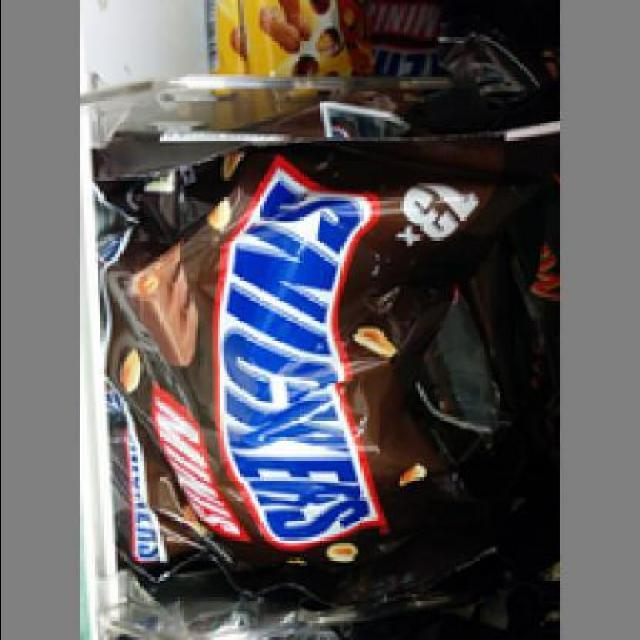Chocolate bar: (89, 117, 511, 609)
